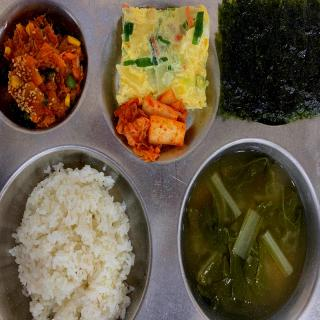Nasi: (10, 167, 135, 320)
